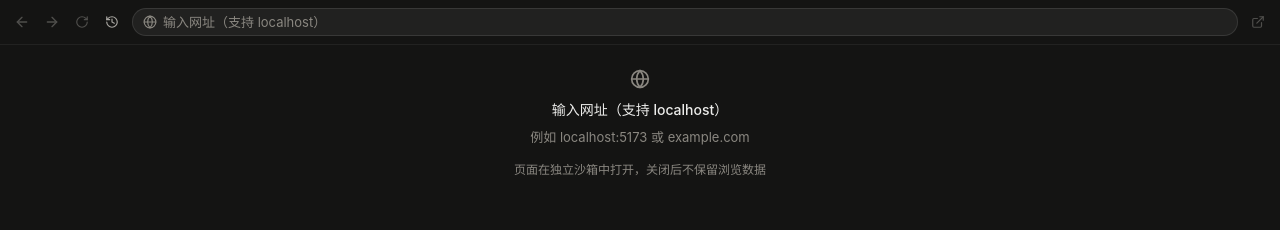
it: BrowserPane › says when a history page cannot open, and when there is none
What coordinates should you click on to do the following:
click the button named "浏览历史"
I would click on:
 (112, 22)
Its box is [98,8,126,36].
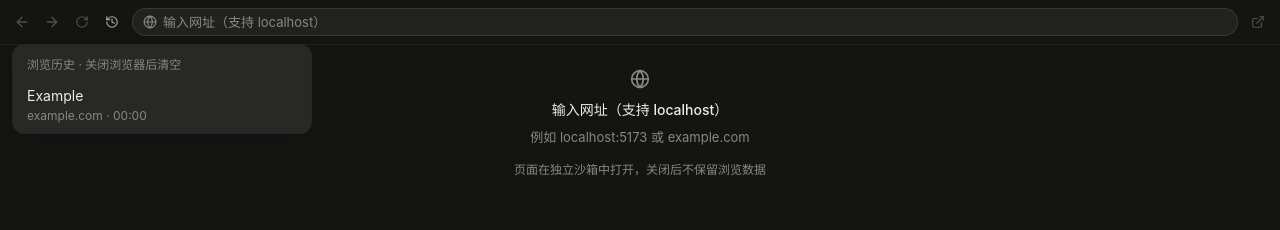
What coordinates should you click on to do the following:
click the menu item "Example example.com · 00:00"
I would click on:
 (55, 96)
Its box is [17,81,307,129].
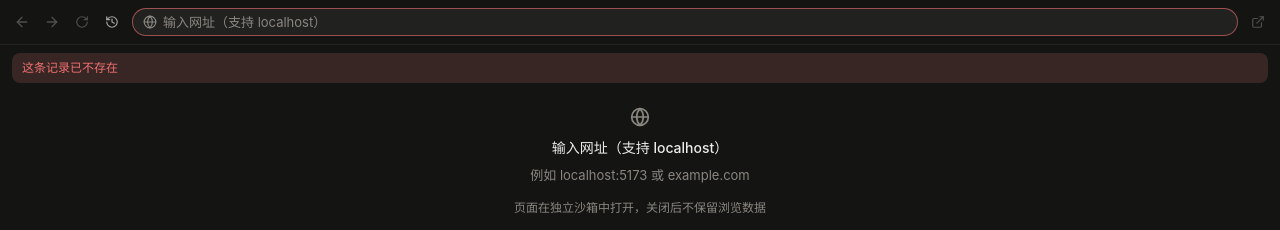
Now the message with class "browser-input-error" reads "这条记录已不存在", box [22,60,118,75]
What coordinates should you click on to do the following:
click the button named "浏览历史"
I would click on:
 (112, 22)
Its box is [98,8,126,36].
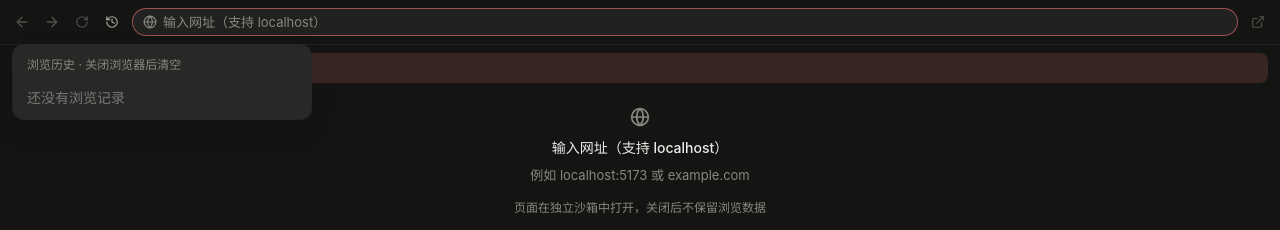
Now the menu shows "还没有浏览记录", box [17,81,307,115]
